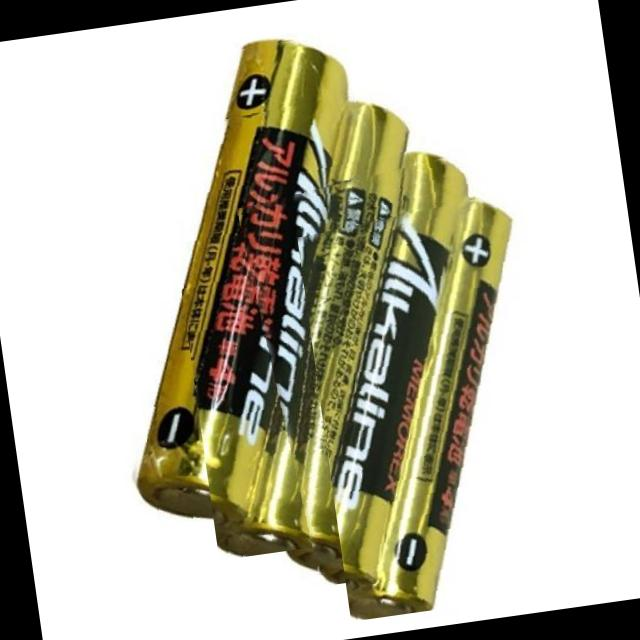Hazard: (71, 32, 408, 531), (156, 82, 468, 560), (232, 152, 525, 591), (294, 190, 571, 622)
